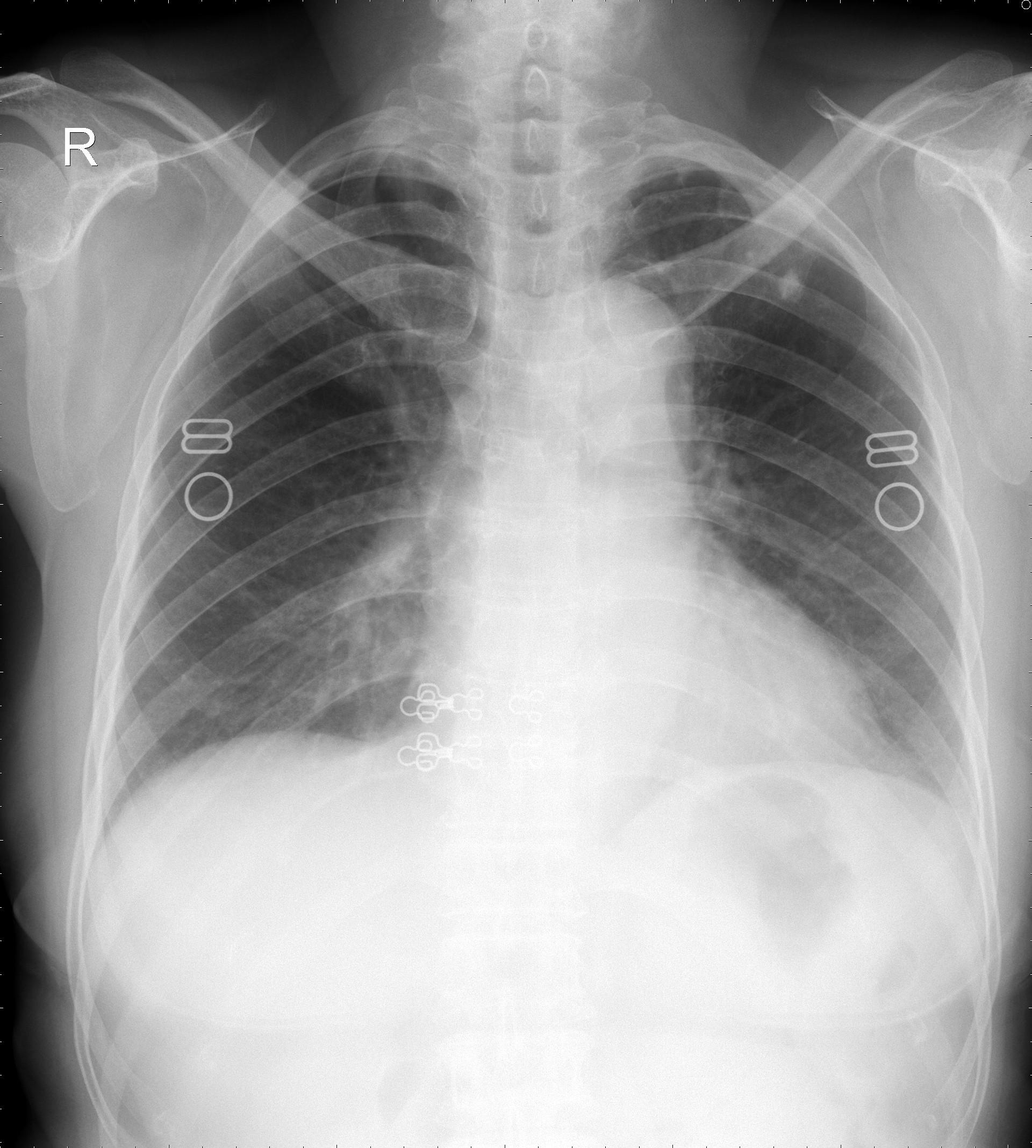Aortic enlargement: (557, 281, 696, 431)
Cardiomegaly: (420, 606, 881, 779)
Pulmonary fibrosis: (712, 174, 739, 232)
